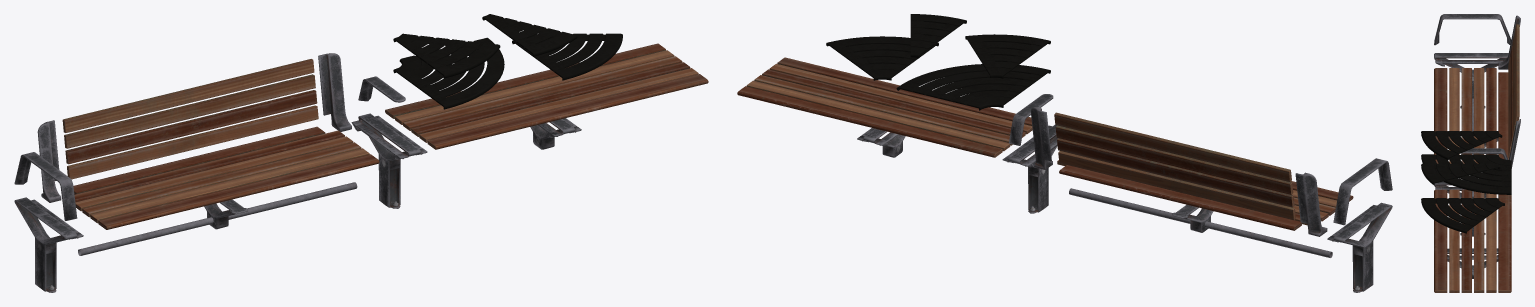
The model's file is modular_street_seating.glb.
3 views of the same model, side by side, from view 1: azimuth 30°, elevation 25°; view 2: azimuth 150°, elevation 25°; view 3: azimuth 270°, elevation 25° (orthographic). The views are drawn at different scales.
Visible parts, largest first — view 1: seat, seat_back, connector_60, crossbar, legs_double; view 2: seat, seat_back, connector_60, crossbar, legs_double; view 3: seat, connector_60, legs_double, crossbar, seat_back.
Boxes of the visible parts, x1=… form: seat: x1=73, y1=43, x2=708, y2=229; seat_back: x1=62, y1=59, x2=318, y2=179; connector_60: x1=393, y1=14, x2=622, y2=109; crossbar: x1=14, y1=53, x2=405, y2=255; legs_double: x1=14, y1=113, x2=581, y2=292; seat: x1=737, y1=57, x2=1353, y2=230; seat_back: x1=1054, y1=112, x2=1295, y2=220; connector_60: x1=826, y1=14, x2=1050, y2=110; crossbar: x1=1009, y1=94, x2=1392, y2=257; legs_double: x1=857, y1=125, x2=1392, y2=292; seat: x1=1434, y1=68, x2=1511, y2=292; connector_60: x1=1421, y1=131, x2=1511, y2=233; legs_double: x1=1434, y1=53, x2=1508, y2=278; crossbar: x1=1434, y1=14, x2=1520, y2=196; seat_back: x1=1508, y1=24, x2=1519, y2=157.
Size of the model in its own units: 4.34 by 0.9498 by 0.7704.
Materials: 4 (4 with a texture image).
